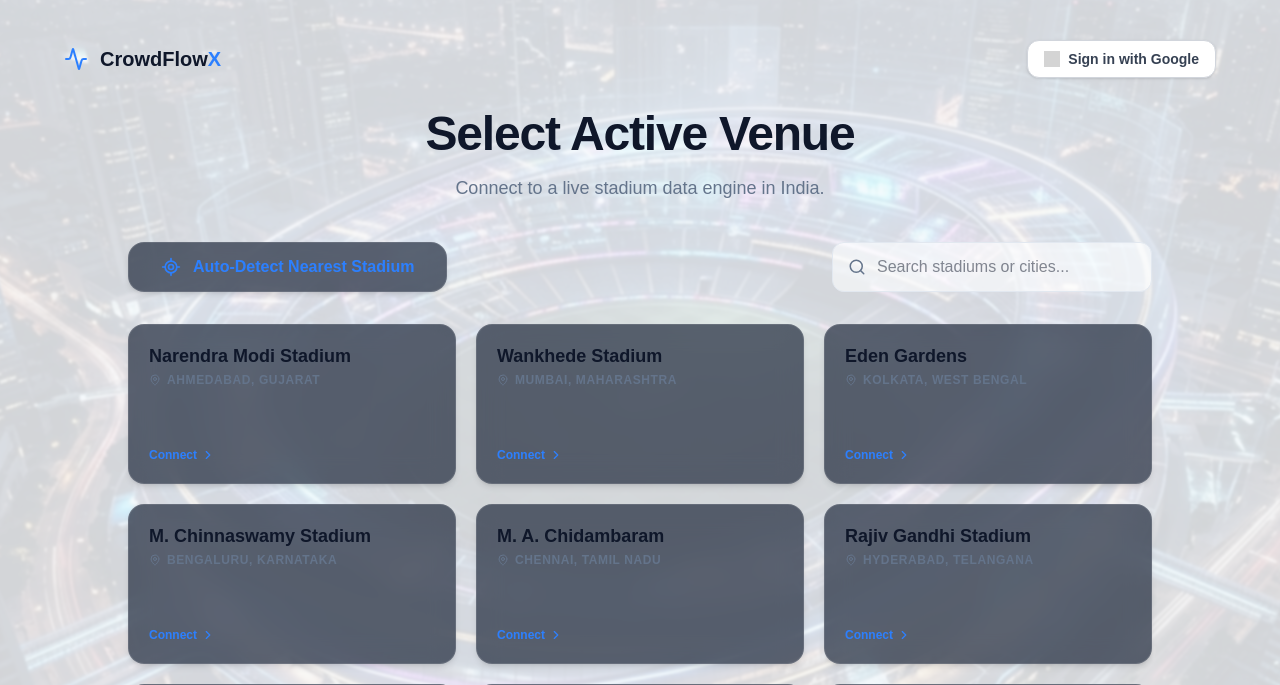
Test: StadiumSelector › updates aria-label on grid to reflect filtered count
In the search field named "Search stadiums by name or city": (992, 267) [832,242,1152,292], type "Eden"
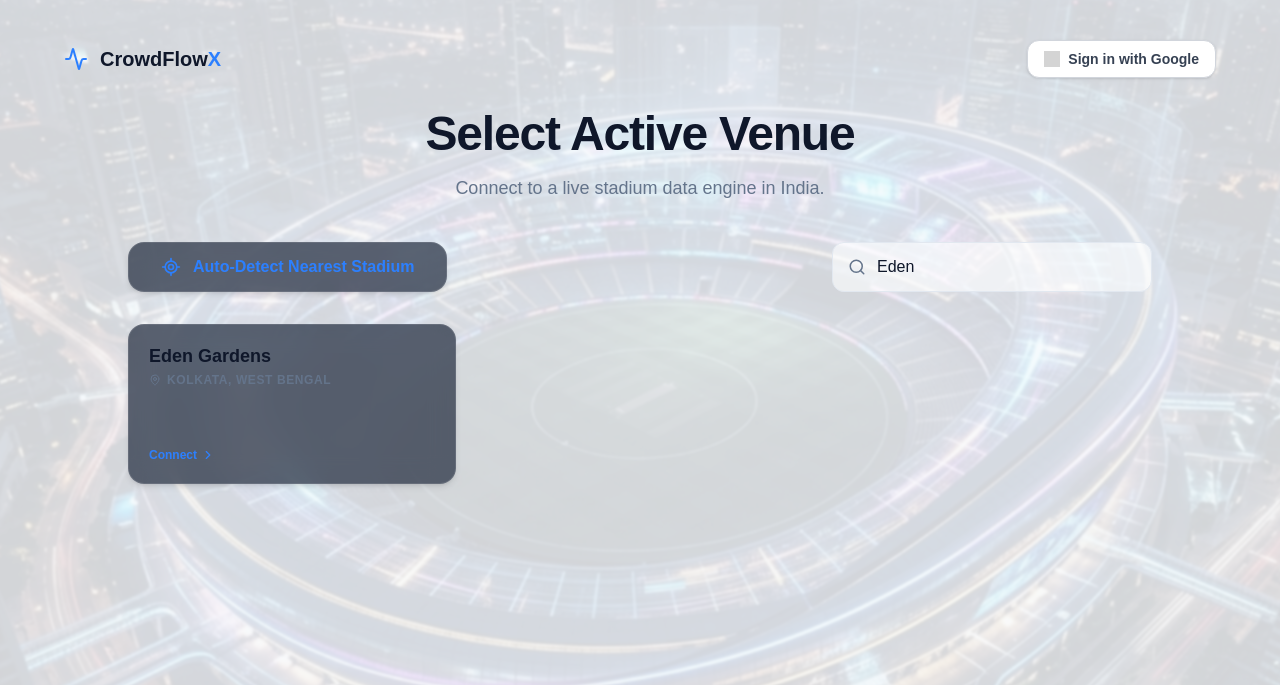
Now the list named "1 stadiums available" is shown, box [128,324,456,484]
